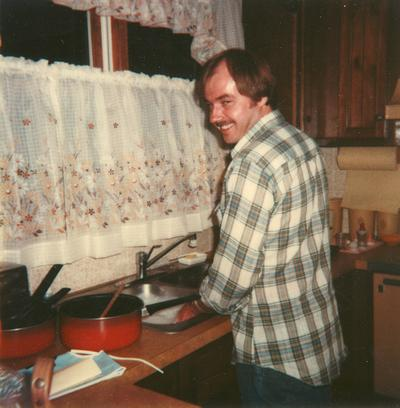person: (174, 47, 349, 408)
